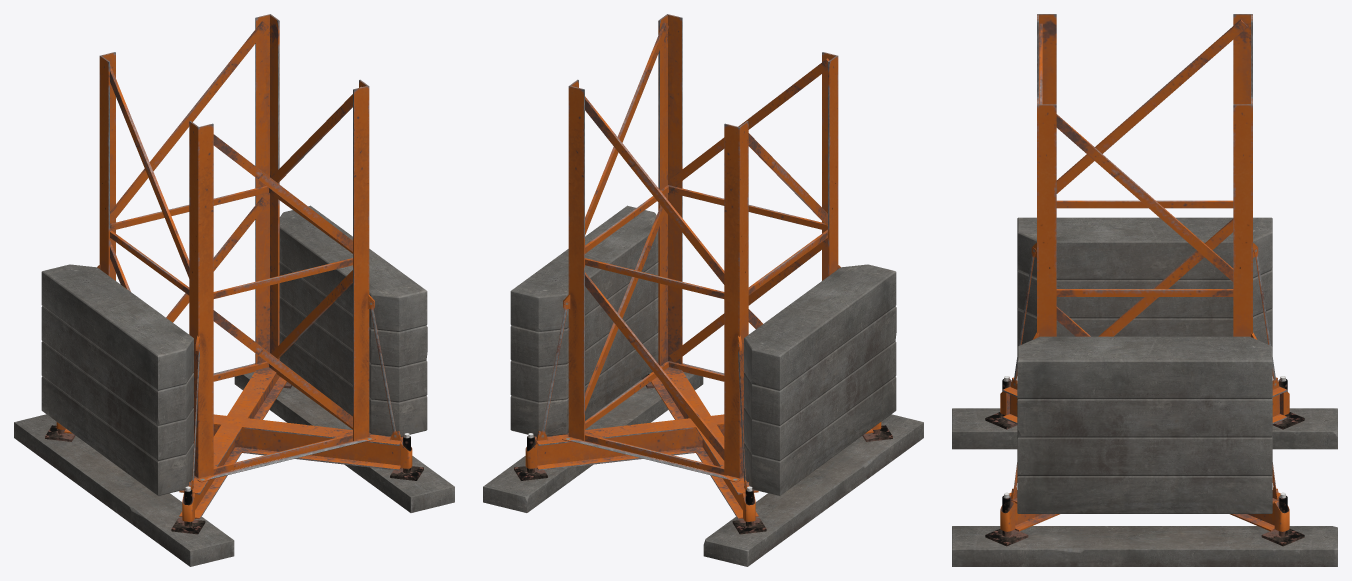
File: CraneBase.fbx
3 renders of one model, left to right at view 1: azimuth 30°, elevation 25°; view 2: azimuth 150°, elevation 25°; view 3: azimuth 270°, elevation 25°, orthographic. The views are drawn at different scales.
Visible parts, largest first — view 1: Crane_Base_LOD0; view 2: Crane_Base_LOD0; view 3: Crane_Base_LOD0.
Part boxes in pixels (bbox=[...]): Crane_Base_LOD0: bbox=[14, 14, 454, 566]; Crane_Base_LOD0: bbox=[483, 14, 923, 566]; Crane_Base_LOD0: bbox=[952, 14, 1337, 566].
Size of what is drawn, in the model's own units: 4.81 by 6.81 by 5.45.
